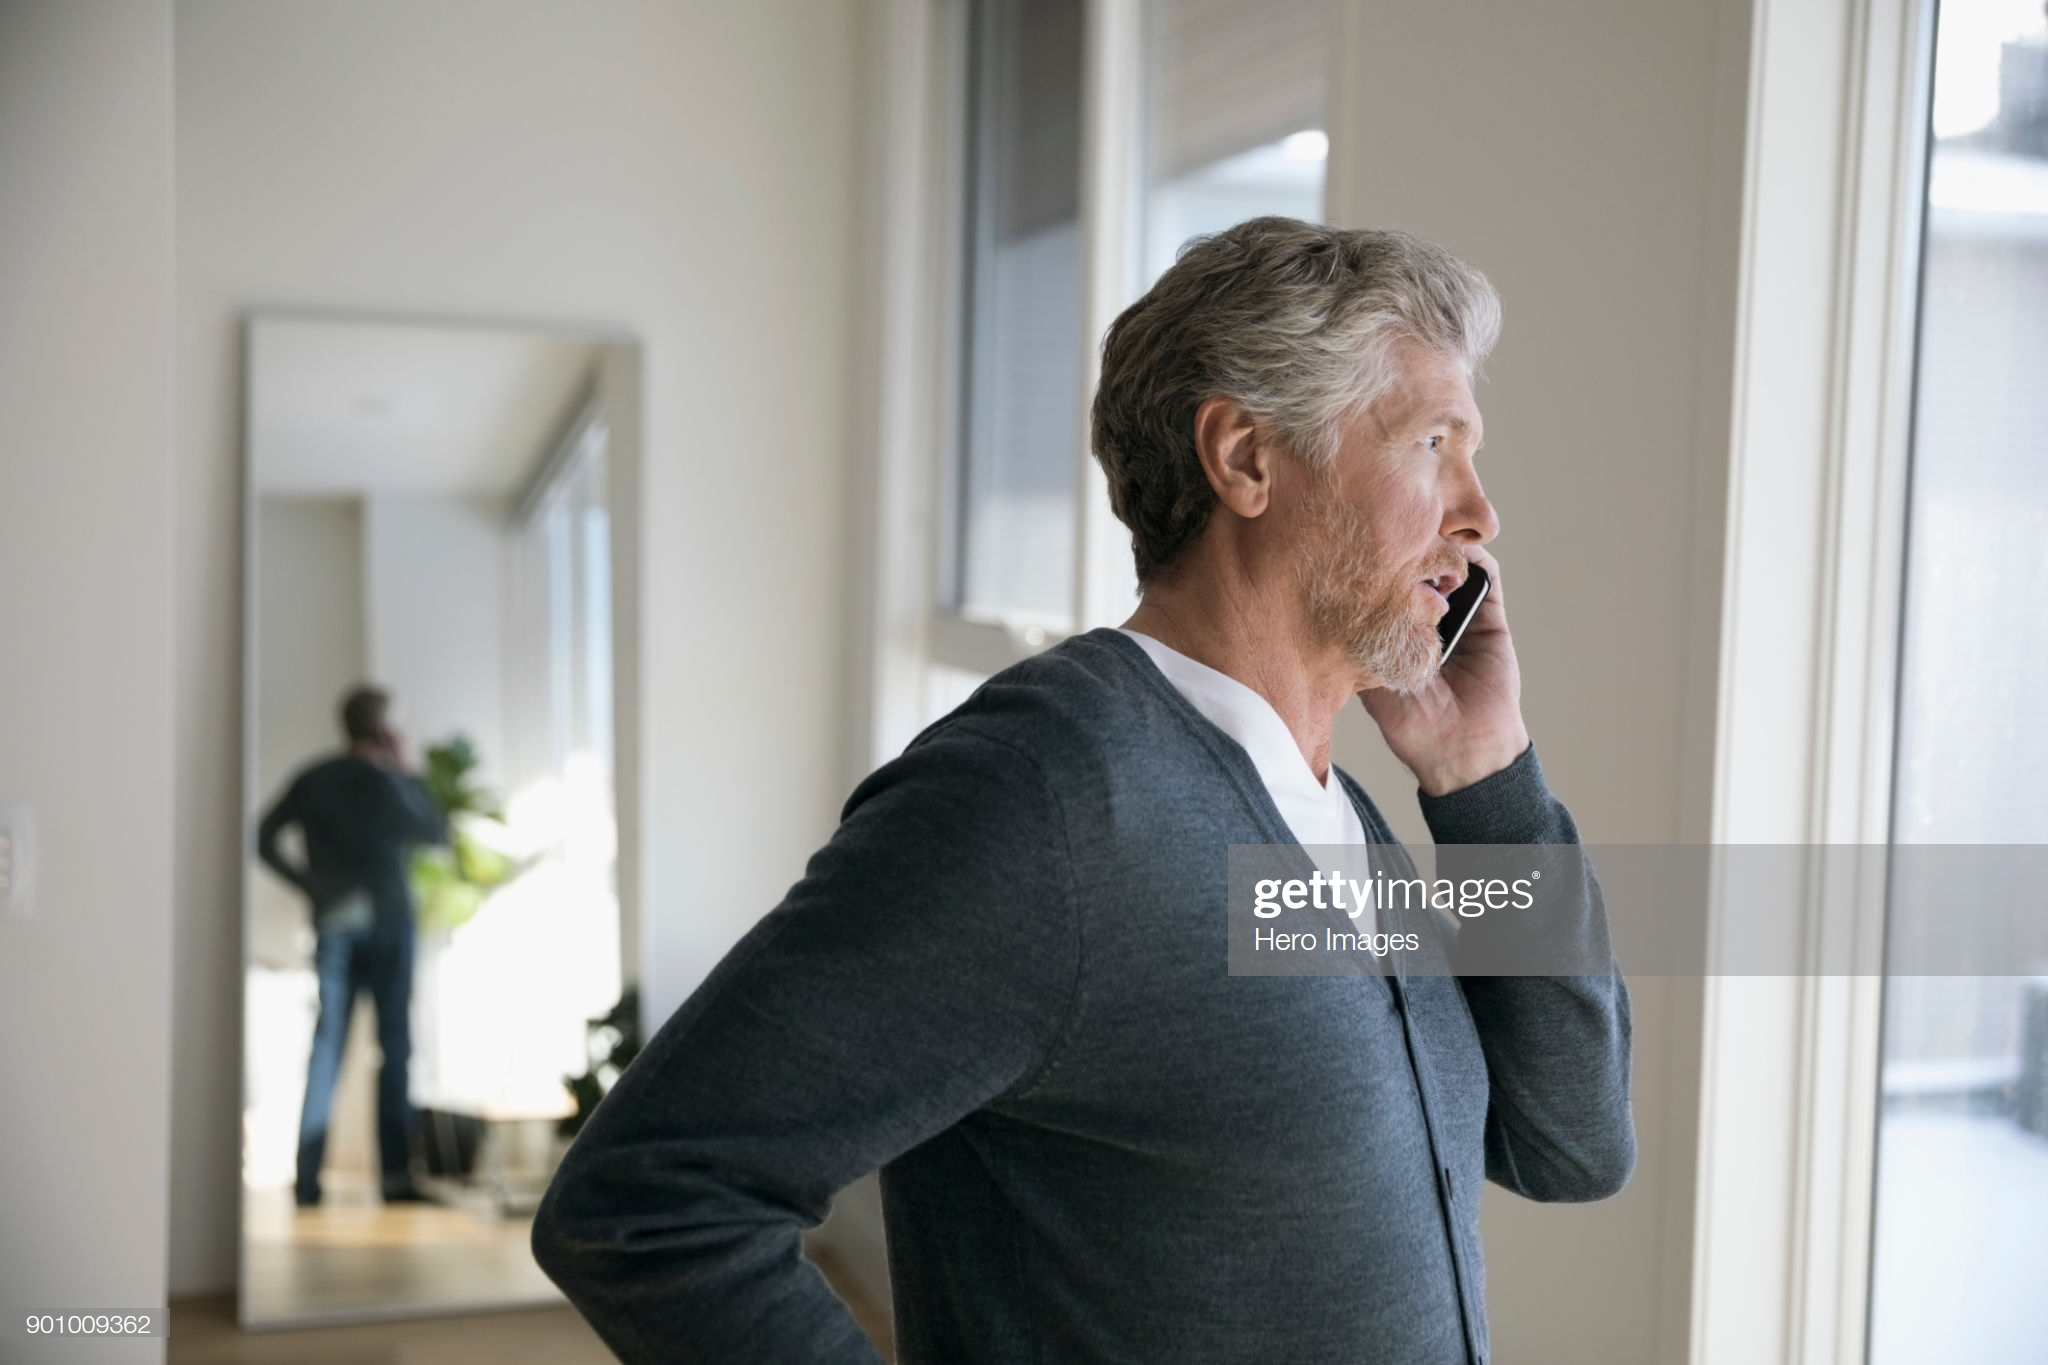phone: (1418, 541, 1524, 762)
